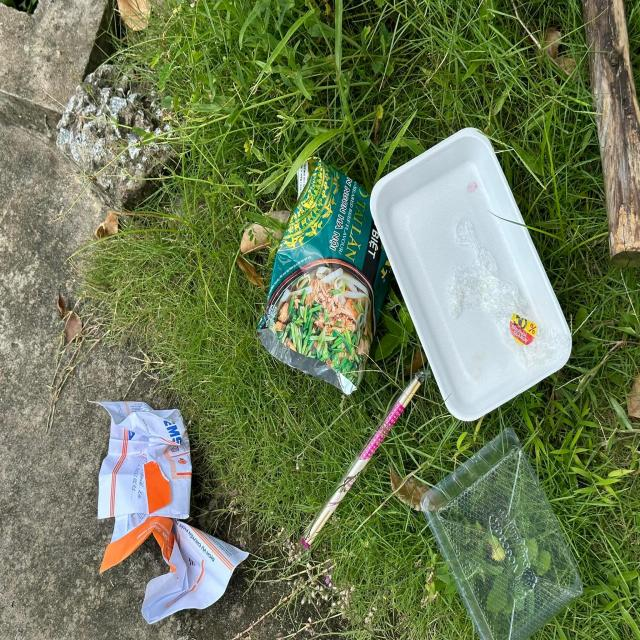foam box: (370, 128, 572, 422)
paper: (87, 399, 249, 624)
plastic holder: (421, 426, 583, 640)
snack package: (257, 156, 393, 395)
